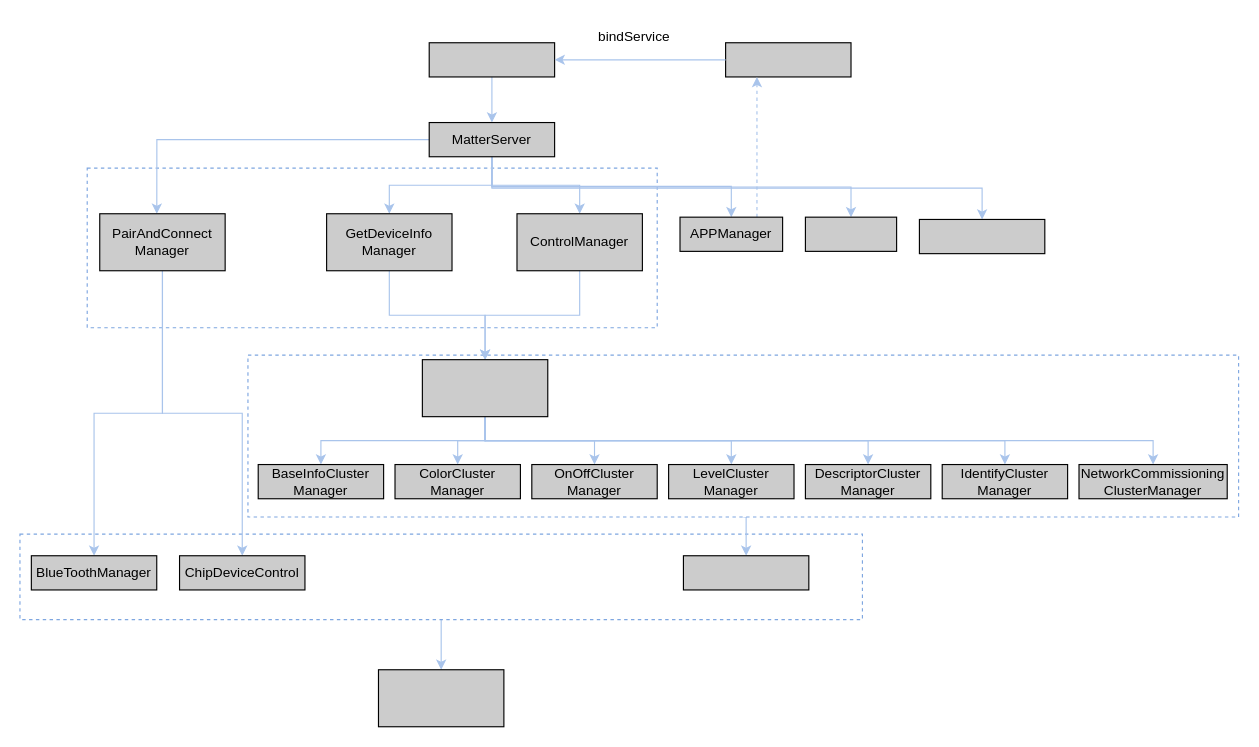
Image size: 1259x747. Some labels were removed from this diagram. Here are the shapes that lost their labels. From the top down, the centre of each, then its label:
At point 491,59: "IOTServer".
At point 787,59: "智能家居APP".
At point 850,233: "NSDManager".
At point 981,236: "PermissionManager".
At point 484,388: "BaseCluster Manager".
At point 745,572: "ChipCluster".
At point 440,698: "Matter SDK".
